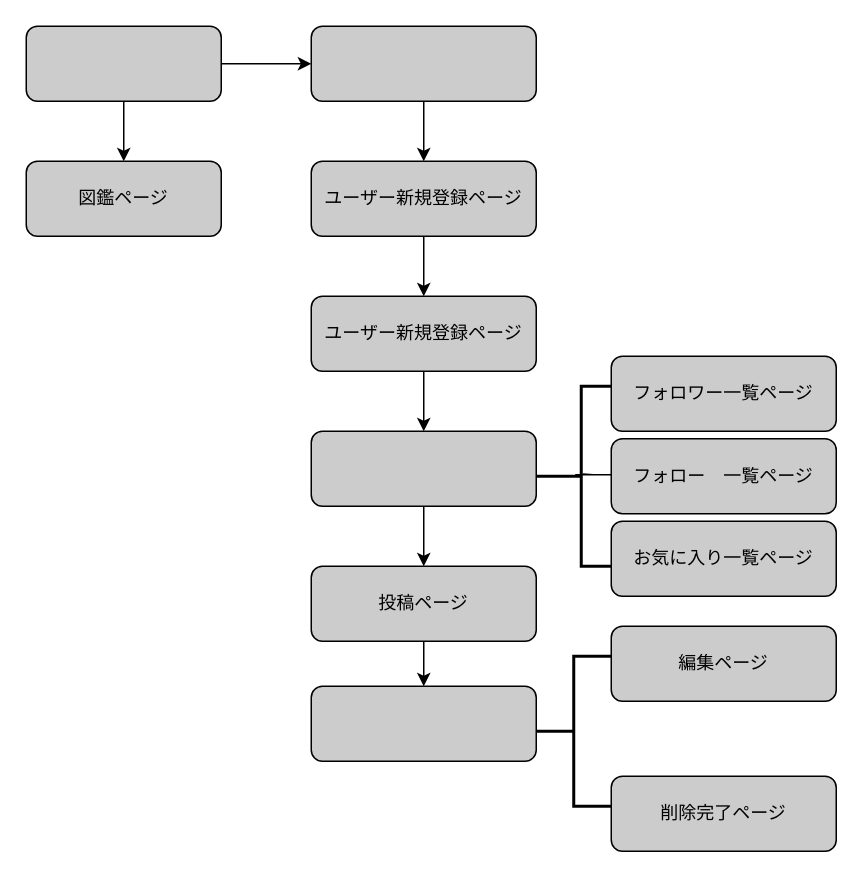
The diagram is 863 pixels wide and 878 high, and some of its shapes have lost their labels. The centre of each missing label's shape, as x and y in pixels:
"ユーザーマイページ" goes at point (423, 468).
"ユーザーログインページ" goes at point (423, 63).
"一覧ページ" goes at point (123, 63).
"詳細ページ" goes at point (423, 723).
